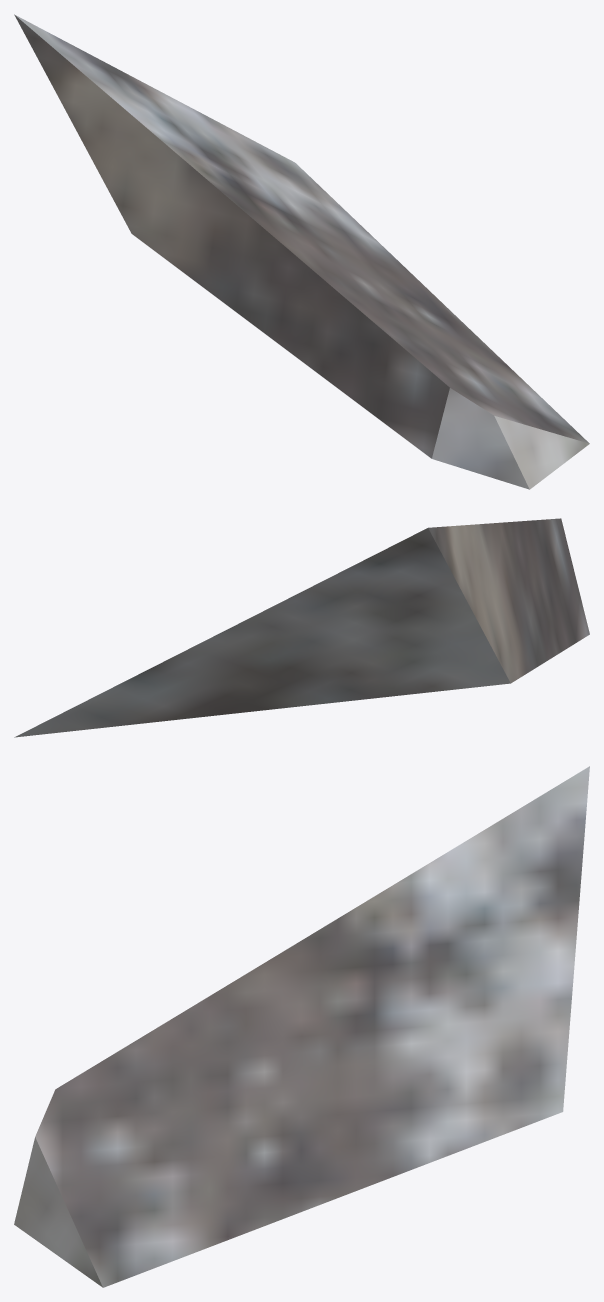
Rendered from Asteroid_Large_001_02_009_03_002.fbx.
3 views of the same model, one above another, from view 1: azimuth 30°, elevation 25°; view 2: azimuth 150°, elevation 25°; view 3: azimuth 270°, elevation 25° (orthographic). The views are drawn at different scales.
Parts seen in each view (by area): view 1: Asteroid_Large_001_02_009_03_002; view 2: Asteroid_Large_001_02_009_03_002; view 3: Asteroid_Large_001_02_009_03_002.
Boxes of the visible parts, bbox=[...] form: Asteroid_Large_001_02_009_03_002: bbox=[14, 14, 589, 489]; Asteroid_Large_001_02_009_03_002: bbox=[14, 518, 589, 737]; Asteroid_Large_001_02_009_03_002: bbox=[14, 766, 589, 1287].
Size of the model in its own units: 1.06 by 1.02 by 1.51.
